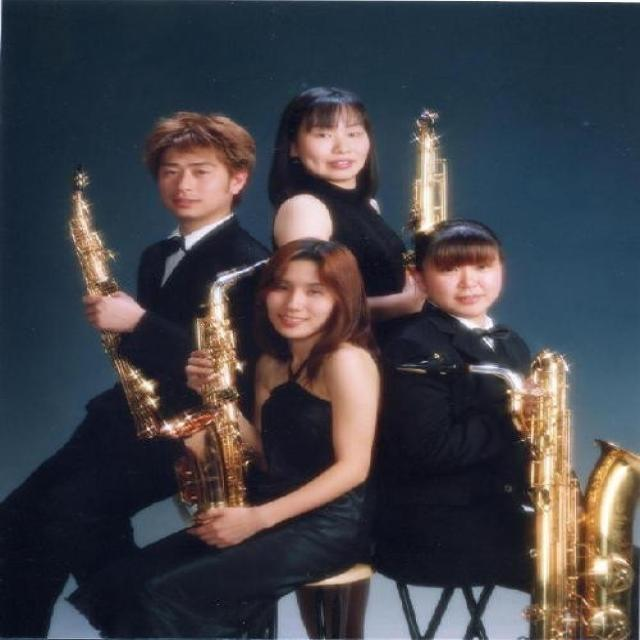saxophone: (402, 343, 640, 640), (160, 249, 278, 538)
